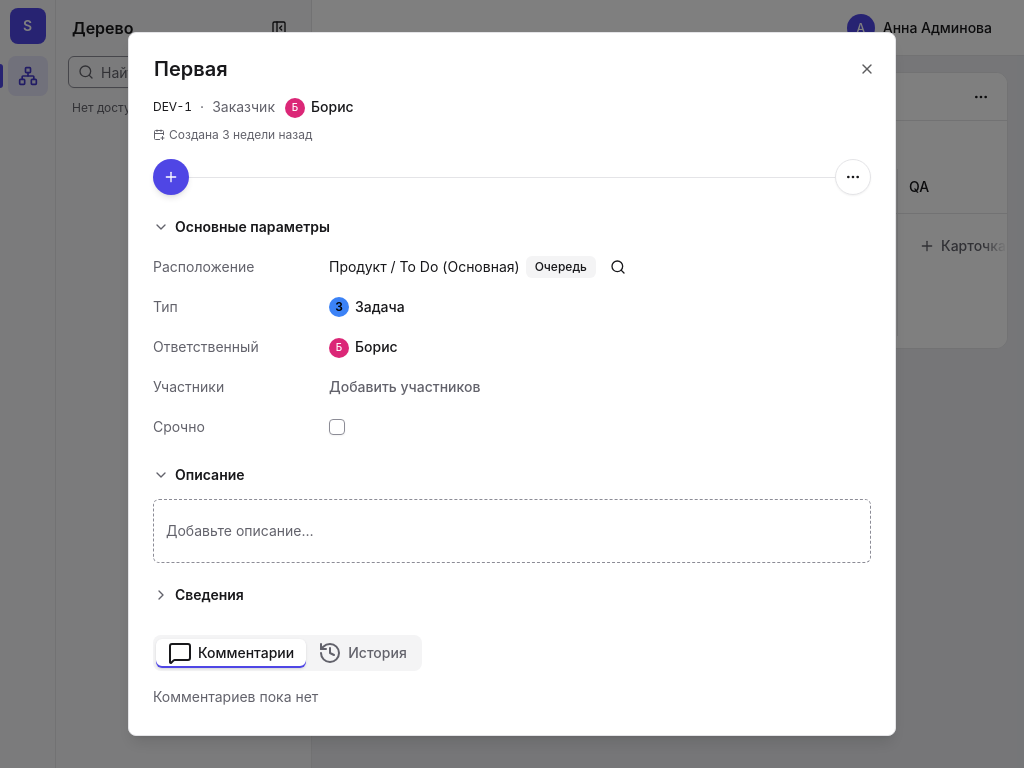
it: Карточка: люди, поля, метки › участники догрузились при открытом списке — подсвеченный ответственный прокручен в видимую часть (U-1 UX-ревью пачки UX-3)
The width and height of the screenshot is (1024, 768).
Click the button with aria-label "Борис — ответственный". click: click(363, 347)
box: [321, 331, 406, 363]
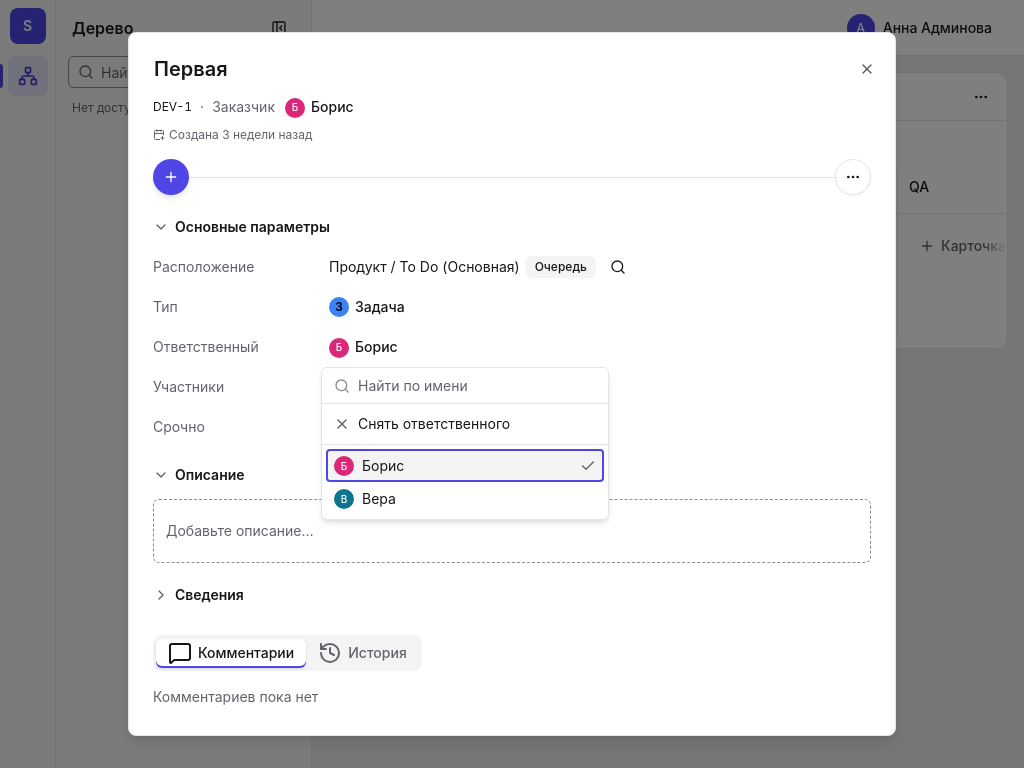
Result: the option "В Вера" is shown at [334, 489, 396, 509]
